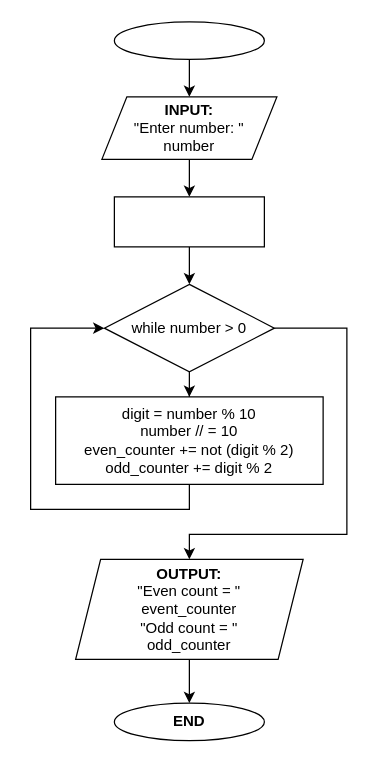
Some shapes in this 379 by 763 pixel diagram are drawn without their labels. Each missing label, with the box of its shape:
BEGIN: (113, 21, 264, 59)
even_counter = 0 odd_counter = 0: (113, 196, 264, 247)
